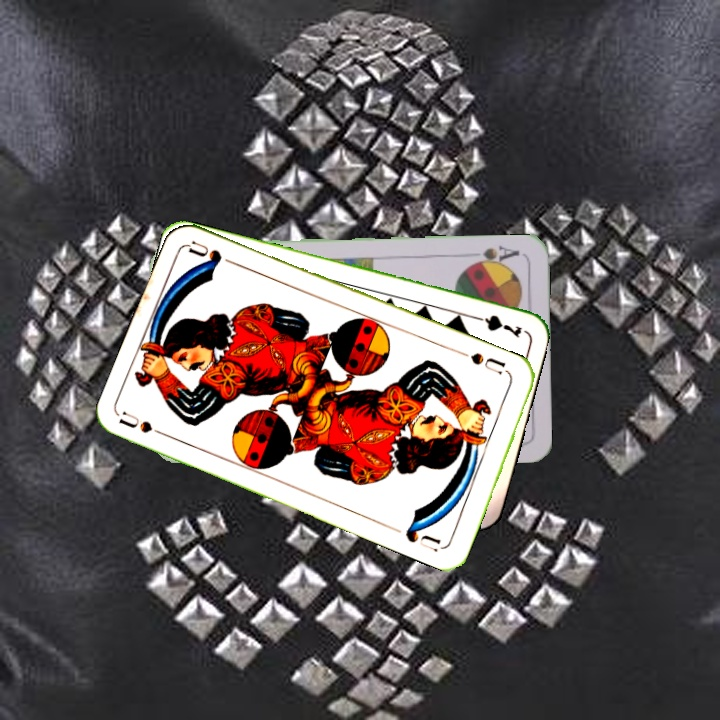G7: (466, 310, 524, 340)
SA: (464, 242, 522, 269)
SU: (116, 407, 175, 442), (466, 348, 508, 378)
